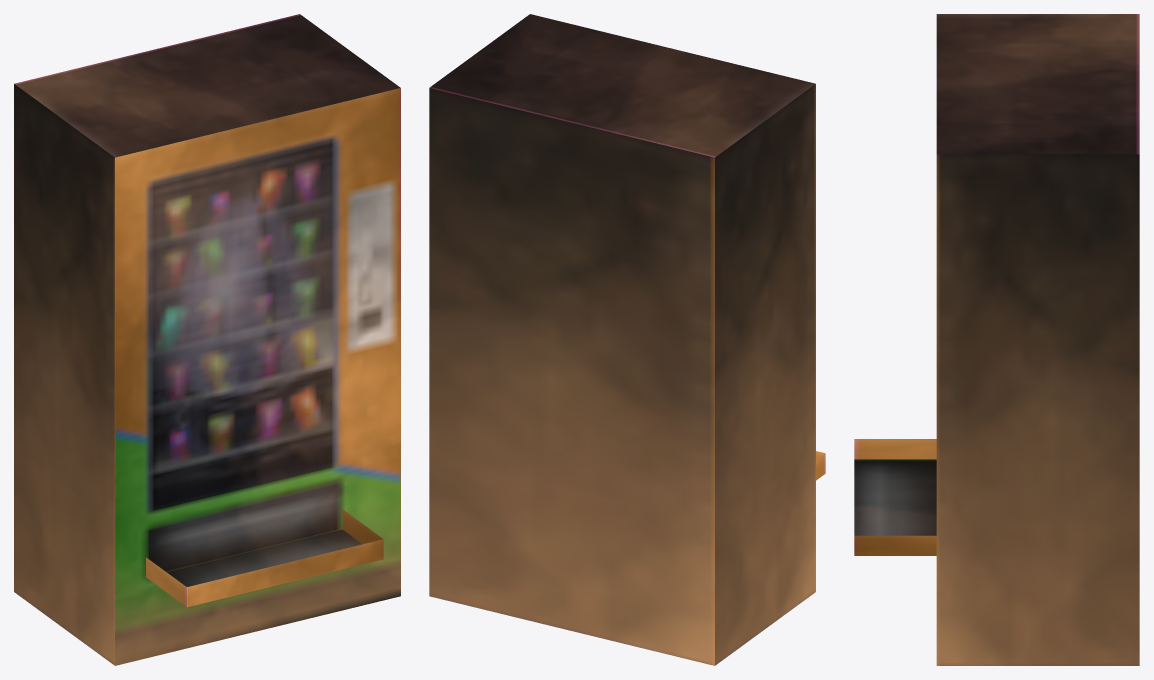
File: vending m.glb
The picture shows the model from 3 angles, left to right: view 1: azimuth 30°, elevation 25°; view 2: azimuth 150°, elevation 25°; view 3: azimuth 270°, elevation 25°; orthographic projection.
Visible parts, largest first — view 1: vending m; view 2: vending m; view 3: vending m.
Boxes of the visible parts, box(x1,y1,x2,y2) form: vending m: box(14, 14, 400, 665); vending m: box(429, 14, 825, 665); vending m: box(854, 14, 1139, 665).
Size of the model in its own units: 237 by 403 by 204.
Materials: 1 (1 with a texture image).
